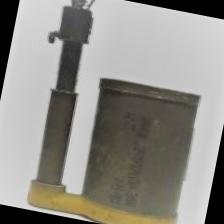M2A1: (7, 0, 222, 224)
